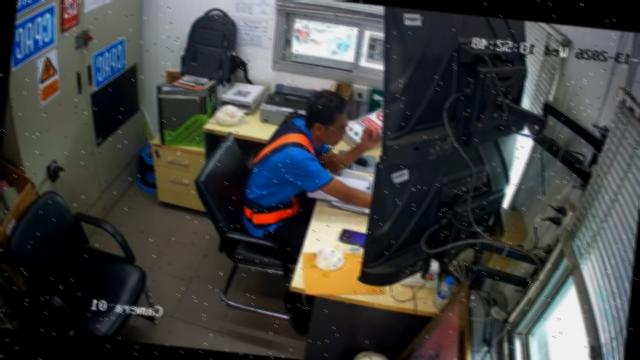Head: (303, 91, 348, 145)
People: (242, 90, 381, 257)
Phone: (336, 230, 367, 246)
